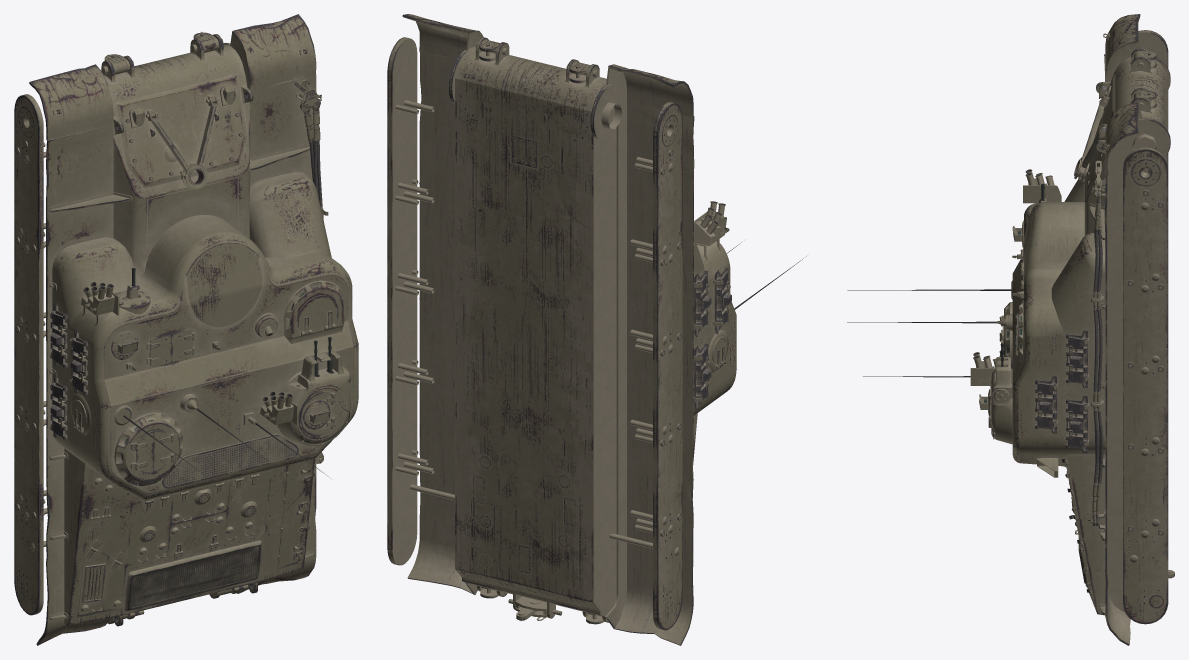
File: Hull.glb
3 renders of one model, left to right at view 1: azimuth 30°, elevation 25°; view 2: azimuth 150°, elevation 25°; view 3: azimuth 270°, elevation 25°, orthographic. The views are drawn at different scales.
Visible parts, largest first — view 1: set_0_group_0; view 2: set_0_group_0; view 3: set_0_group_0.
Part boxes in pixels (left/top/right/bottom): set_0_group_0: left=14, top=14, right=358, bottom=645; set_0_group_0: left=387, top=14, right=806, bottom=645; set_0_group_0: left=847, top=14, right=1174, bottom=645.
Bounding box in the file's own units: 3.75 × 7.17 × 4.21.
Materials: 1 (1 with a texture image).
